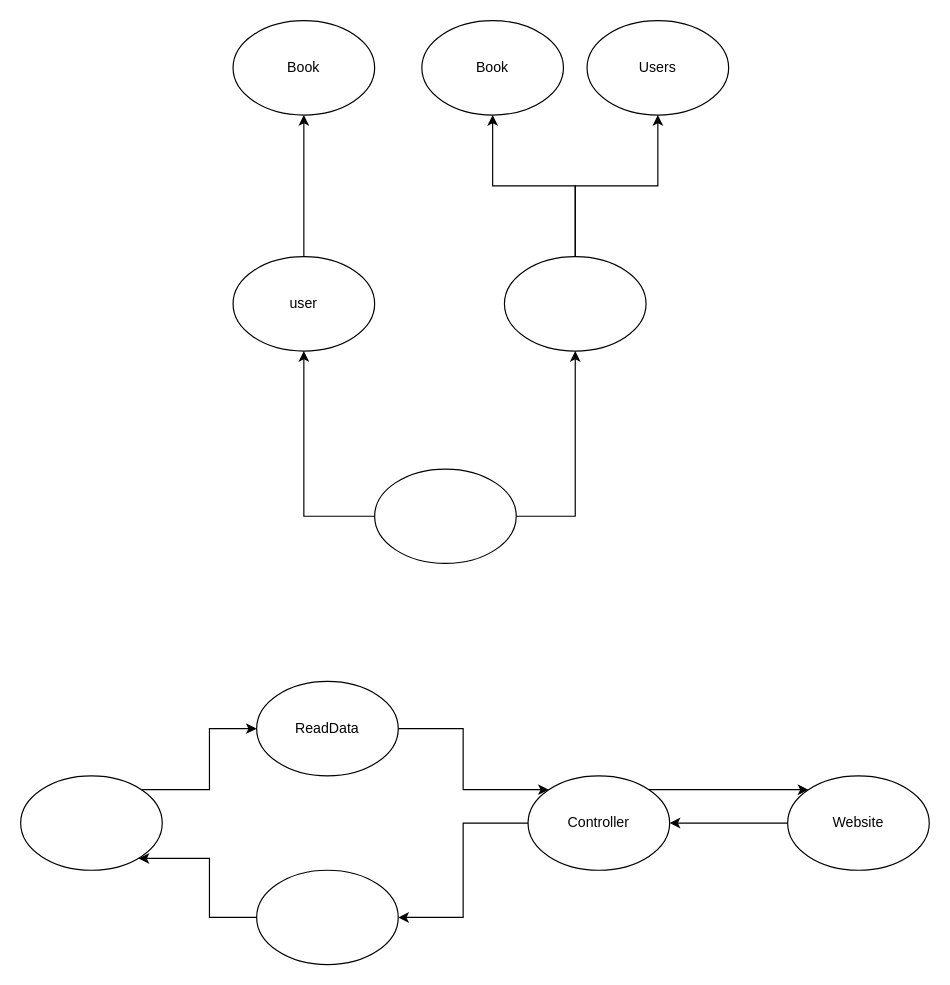
This 950x985 diagram has some shape labels left out. Here are the shapes that lost their labels. From the top down, the centre of each, then its label:
the point at 574,303: admin
the point at 444,515: Login
the point at 90,822: Databse
the point at 326,917: EditData
